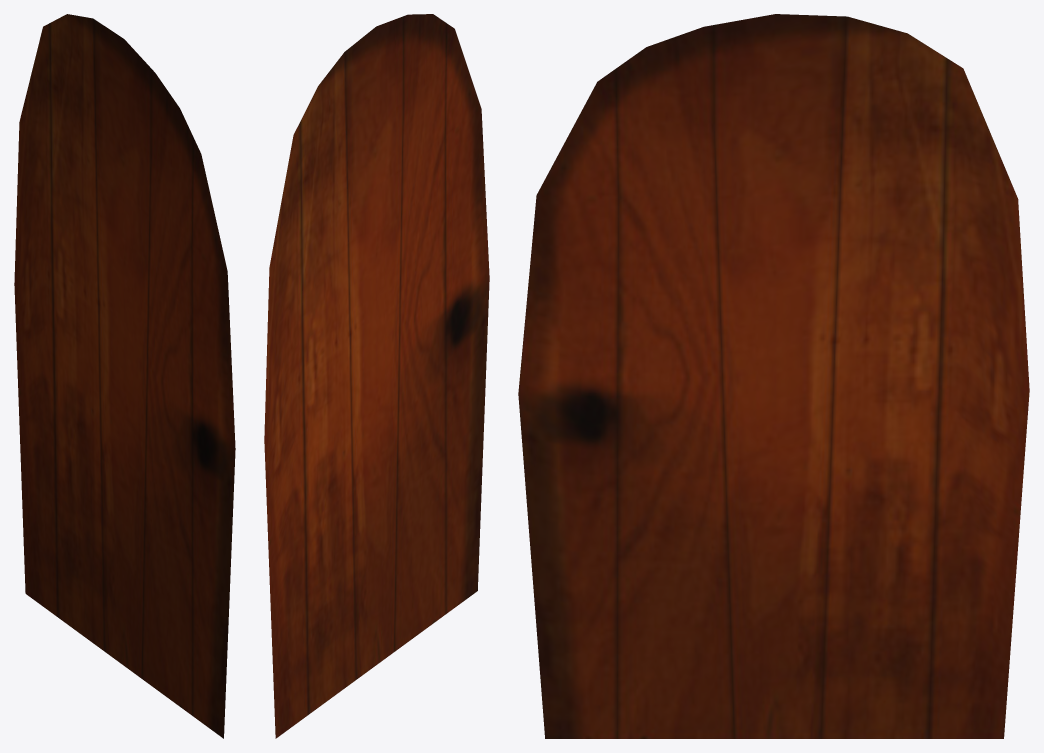
The model's file is bathroom_door.dae.
3 renders of one model, left to right at view 1: azimuth 30°, elevation 25°; view 2: azimuth 150°, elevation 25°; view 3: azimuth 270°, elevation 25°, orthographic. The views are drawn at different scales.
Parts seen in each view (by area): view 1: bathroomdoor; view 2: bathroomdoor; view 3: bathroomdoor.
Part boxes in pixels (x1,y1,x2,y2): bathroomdoor: (14, 14, 235, 738); bathroomdoor: (264, 14, 489, 738); bathroomdoor: (518, 14, 1029, 738).
Bounding box in the file's own units: 3.09e-15 × 11.6 × 7.41.
1 material, 1 textured.
